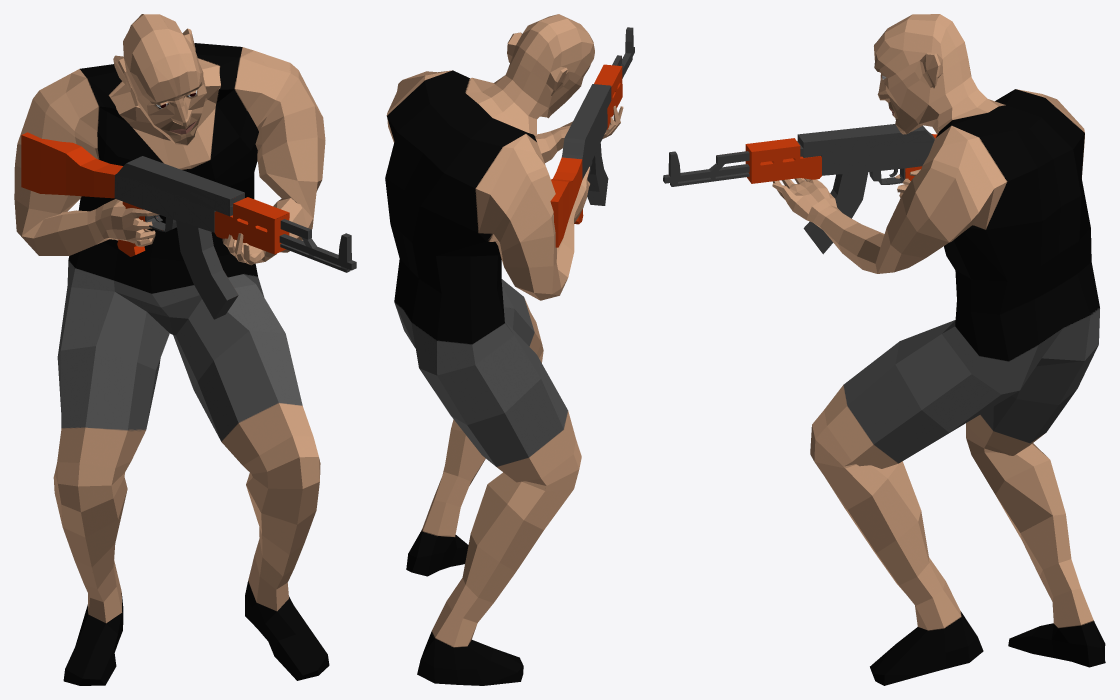
The model's file is PlayerWalk(1).obj.
3 views of the same model, side by side, from view 1: azimuth 30°, elevation 25°; view 2: azimuth 150°, elevation 25°; view 3: azimuth 270°, elevation 25° (orthographic). The views are drawn at different scales.
Parts seen in each view (by area): view 1: Plane002, Object001; view 2: Plane002, Object001; view 3: Plane002, Object001.
Part boxes in pixels (bbox=[...]): Plane002: bbox=[14, 14, 329, 685]; Object001: bbox=[21, 132, 356, 319]; Plane002: bbox=[385, 14, 623, 685]; Object001: bbox=[550, 27, 634, 247]; Plane002: bbox=[772, 14, 1105, 685]; Object001: bbox=[663, 124, 937, 254].
Bounding box in the file's own units: 574 × 1595 × 1006.
